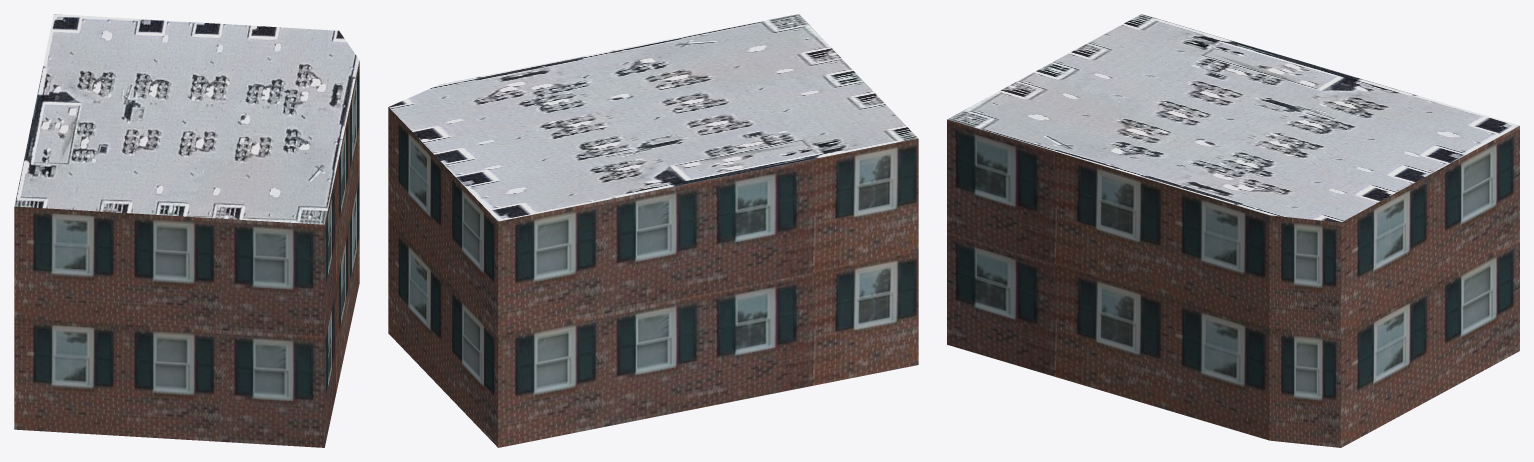
Rendered from ResTex__1364.fbx.
3 renders of one model, left to right at view 1: azimuth 30°, elevation 25°; view 2: azimuth 150°, elevation 25°; view 3: azimuth 270°, elevation 25°, orthographic.
Parts seen in each view (by area): view 1: CityEngineMaterial_14_m, CityEngineMaterial_2_m; view 2: CityEngineMaterial_14_m, CityEngineMaterial_2_m; view 3: CityEngineMaterial_14_m, CityEngineMaterial_2_m.
Boxes of the visible parts, box(x1,y1,x2,y2) form: CityEngineMaterial_14_m: box(14, 61, 359, 447); CityEngineMaterial_2_m: box(14, 14, 359, 224); CityEngineMaterial_14_m: box(388, 107, 918, 447); CityEngineMaterial_2_m: box(389, 14, 917, 221); CityEngineMaterial_14_m: box(947, 119, 1519, 447); CityEngineMaterial_2_m: box(947, 14, 1519, 222).
Size of the model in its own units: 11.92 by 6 by 13.83.
Materials: 2 (2 with a texture image).
